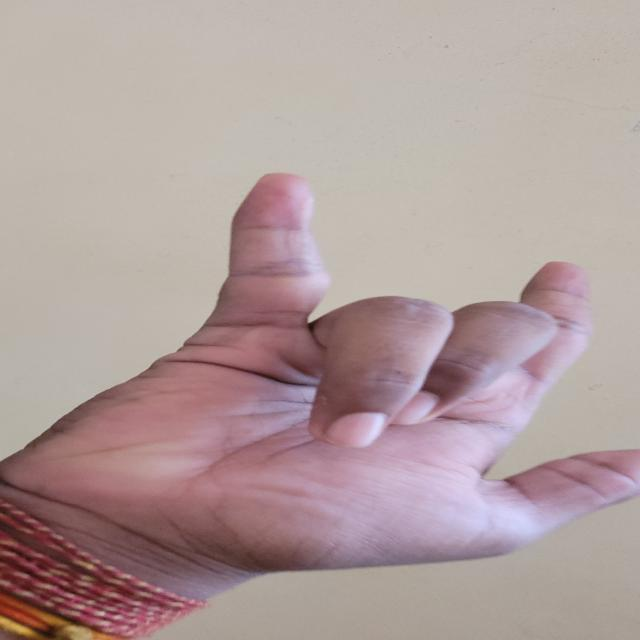i like you: (65, 133, 640, 611)
